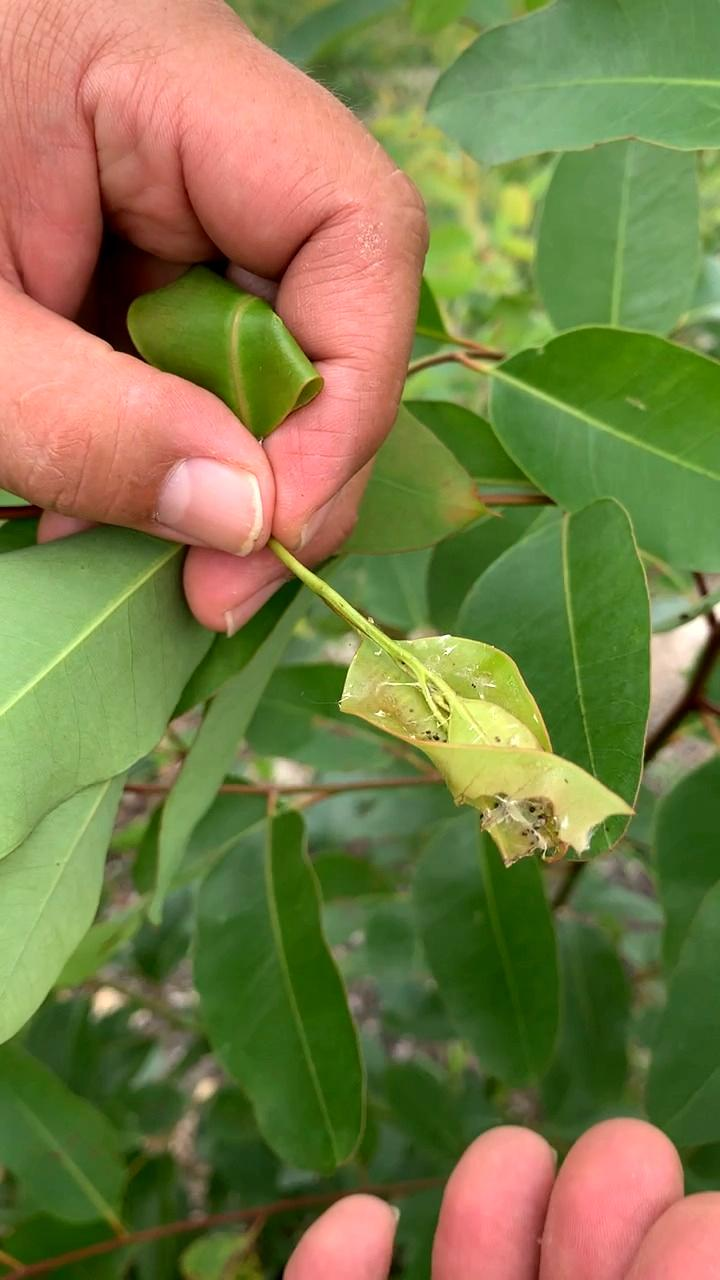Leaf Roller - Leaf: (345, 638, 625, 875)
